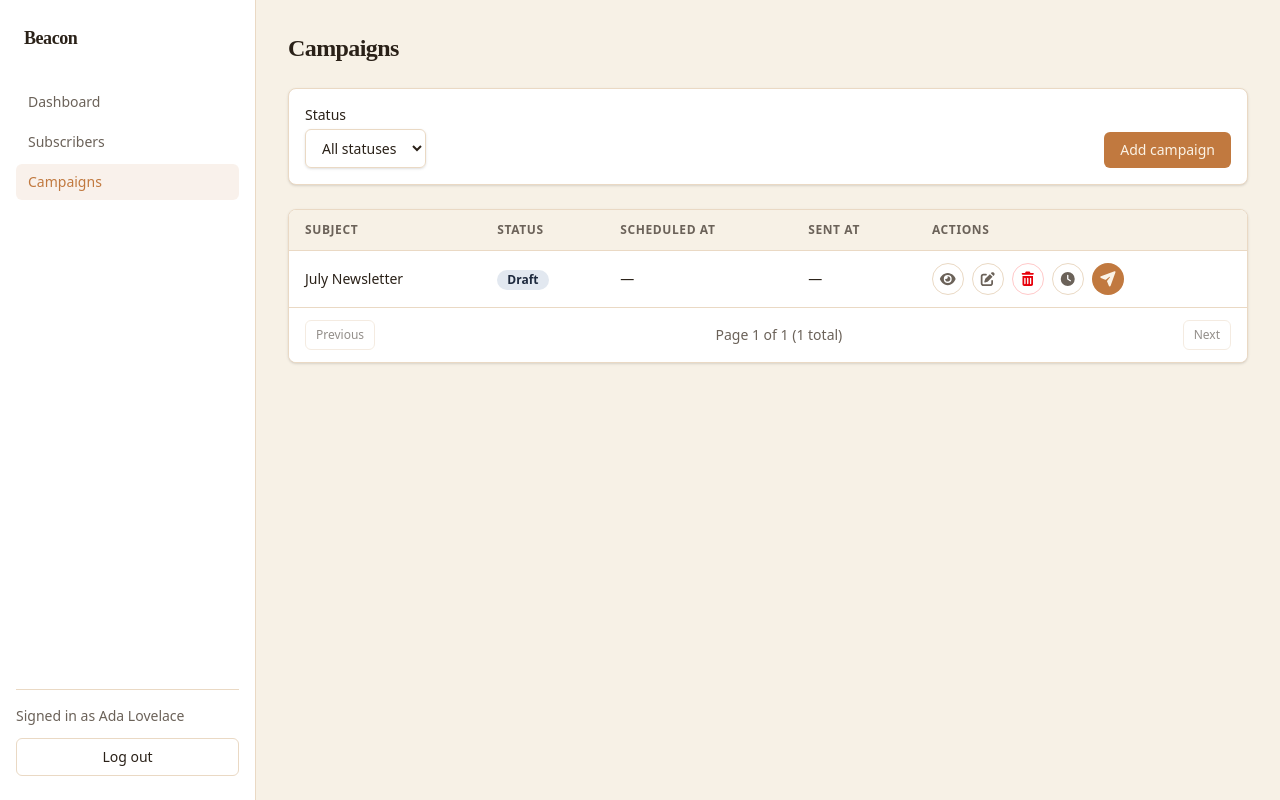
Test: CampaignListPage › requires confirmation before deleting a campaign
Expected: the text "July Newsletter" is shown, left=289, top=250, right=481, bottom=307
Click the button named "Delete" at (1028, 279), box left=1012, top=263, right=1044, bottom=295
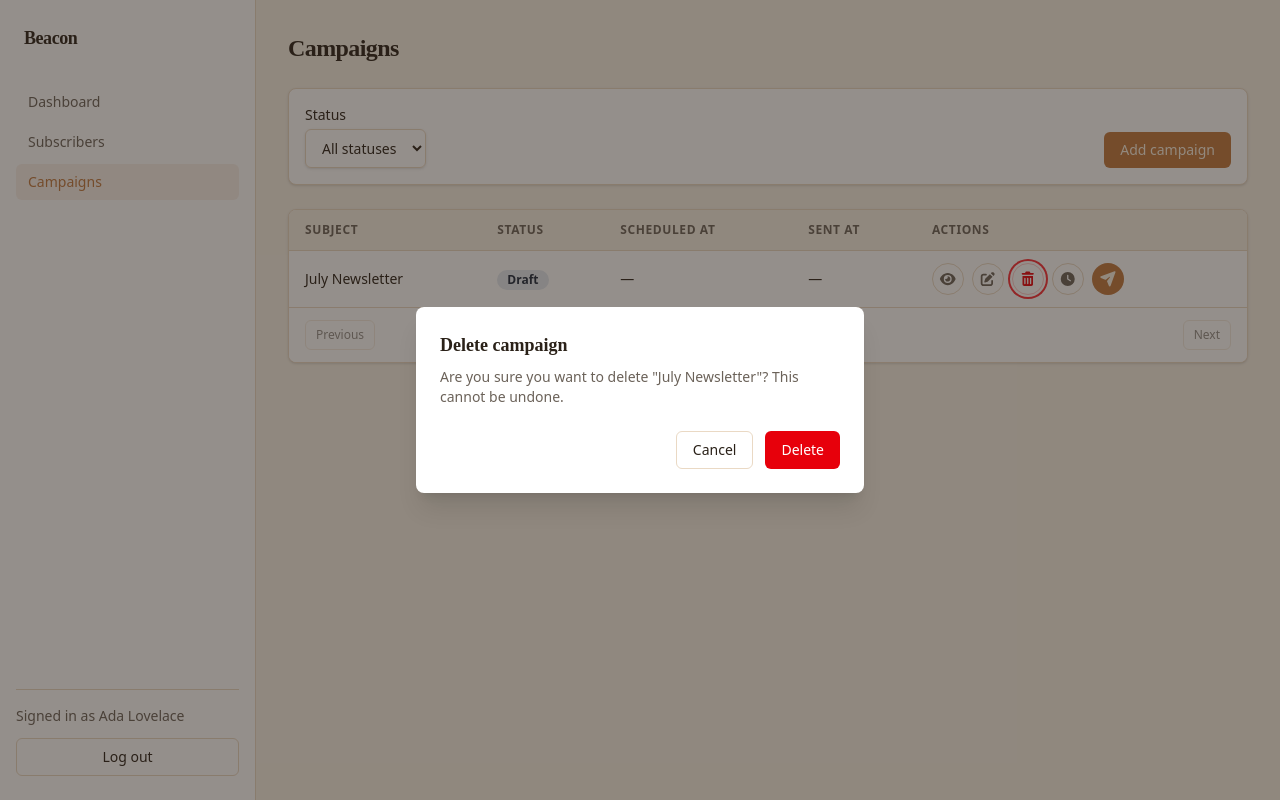
Click the button "Cancel" at (715, 450), box left=676, top=431, right=753, bottom=469
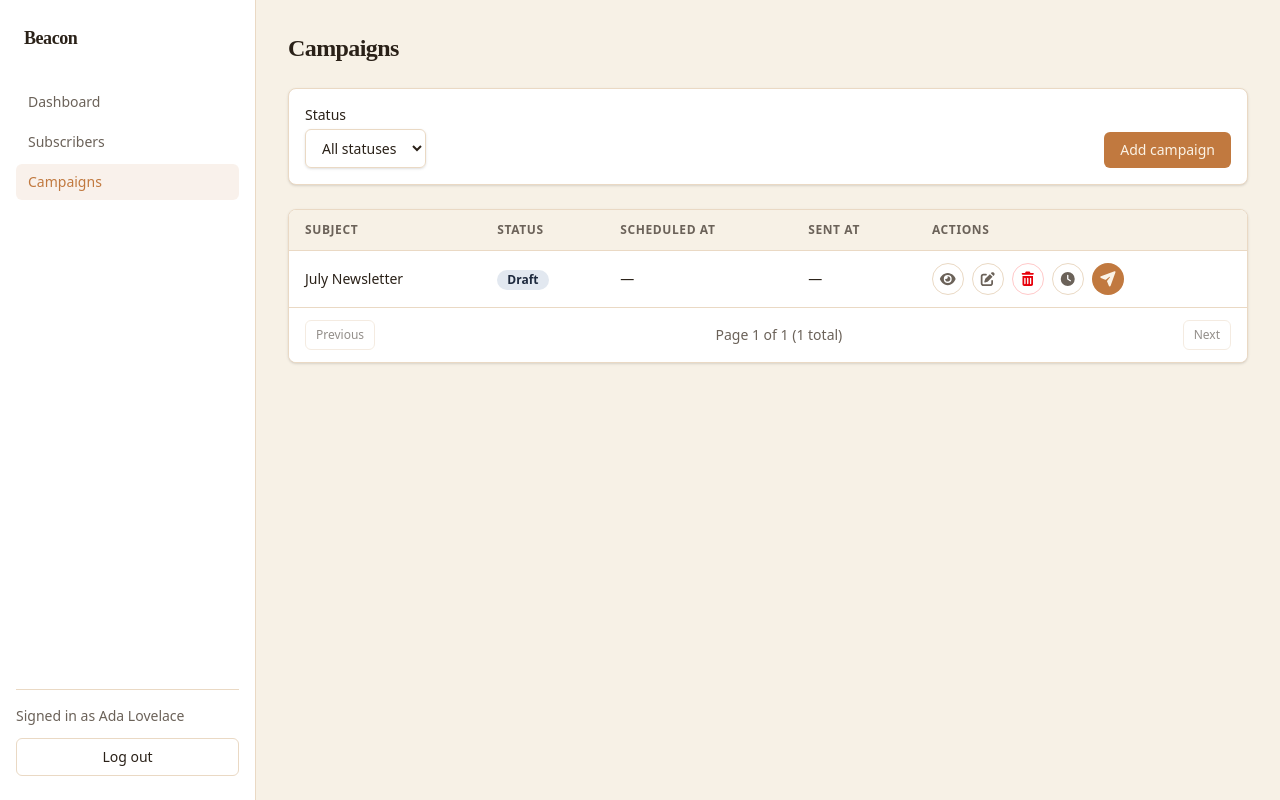
Expected: the text "July Newsletter" is shown, left=289, top=250, right=481, bottom=307
Now the dialog is gone
Click the button named "Delete" at (1028, 279), box left=1012, top=263, right=1044, bottom=295
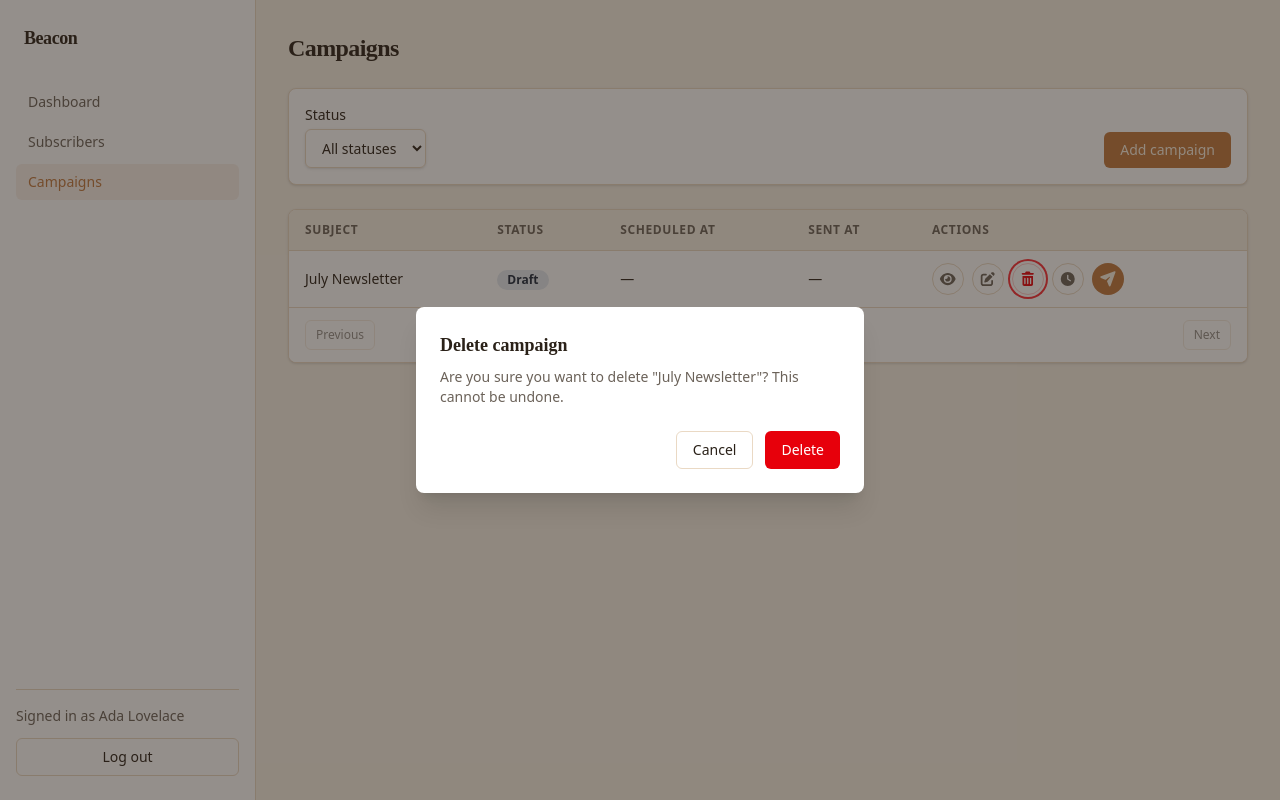
Click the button "Delete" at (803, 450), box left=765, top=431, right=840, bottom=469
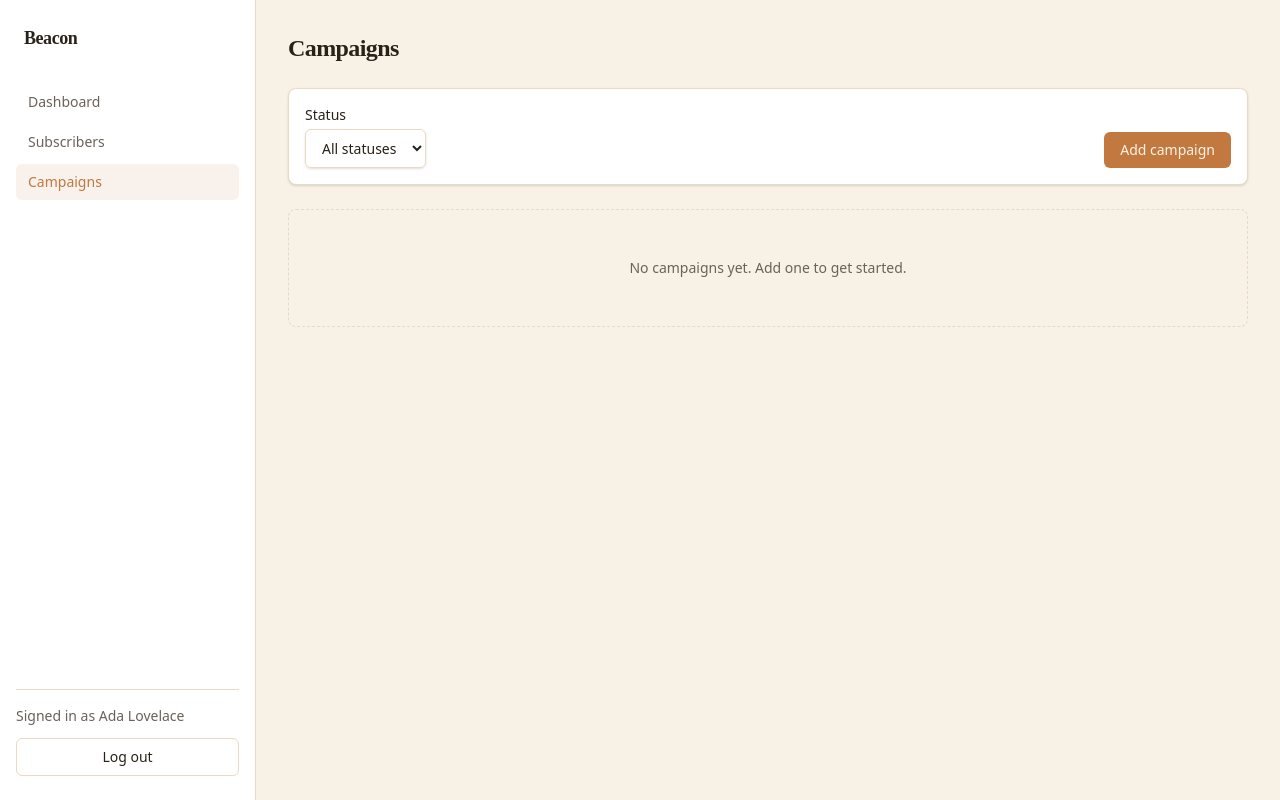
Now the text "No campaigns yet. Add one to get started." is shown, box left=629, top=258, right=906, bottom=277
